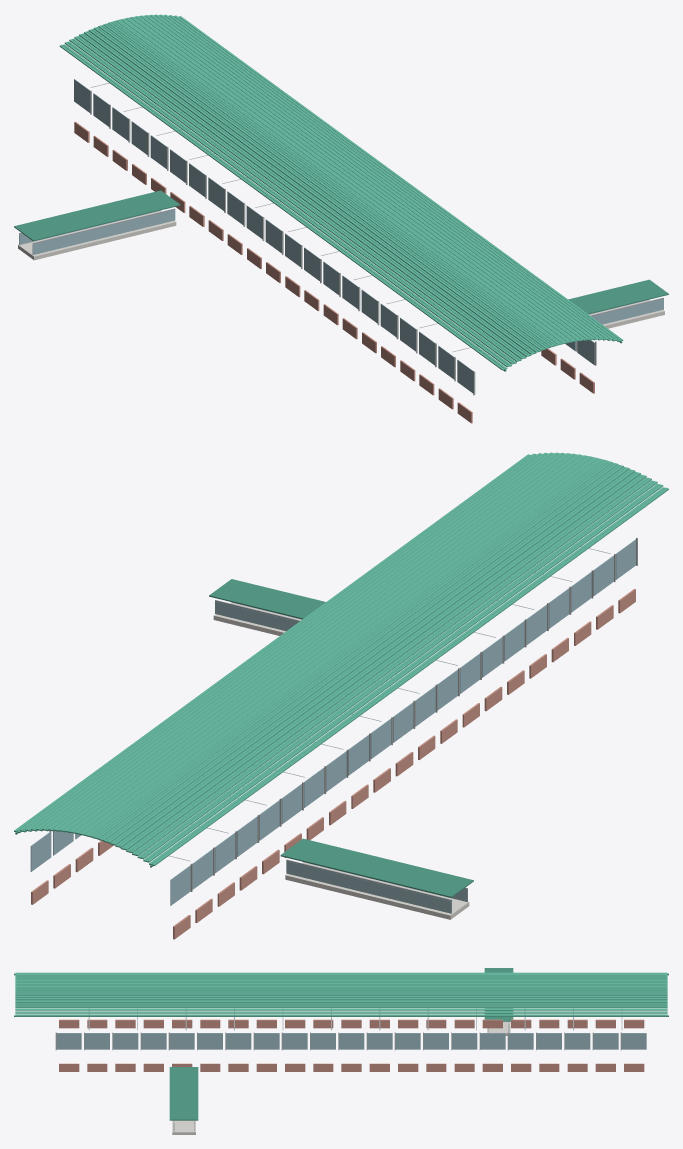
Rendered from station-5-photo-reference.glb.
3 views of the same model, one above another, from view 1: azimuth 30°, elevation 25°; view 2: azimuth 150°, elevation 25°; view 3: azimuth 270°, elevation 25° (orthographic). The views are drawn at different scales.
Parts seen in each view (by area): view 1: Station 5 photo-informed architecture and surroundings; view 2: Station 5 photo-informed architecture and surroundings; view 3: Station 5 photo-informed architecture and surroundings.
Part boxes in pixels (left/top/right/bottom): Station 5 photo-informed architecture and surroundings: left=14, top=14, right=668, bottom=423; Station 5 photo-informed architecture and surroundings: left=14, top=452, right=668, bottom=939; Station 5 photo-informed architecture and surroundings: left=14, top=968, right=668, bottom=1134.
Size of the model in its own units: 89 by 20.31 by 162.
